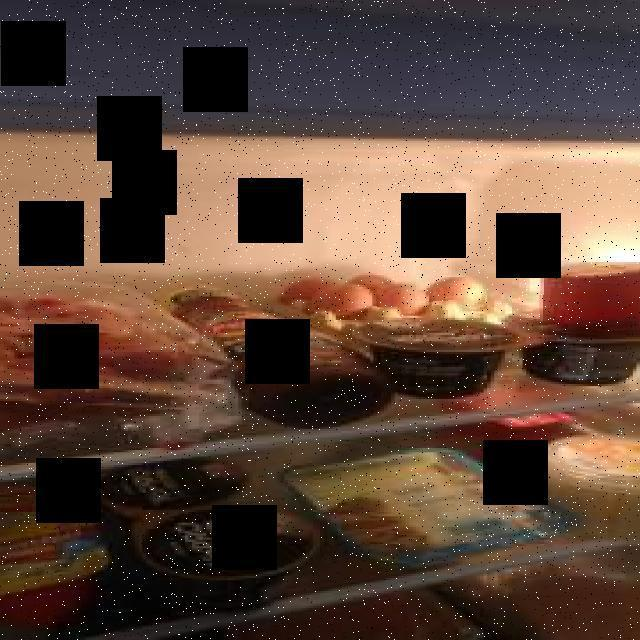egg: (308, 284, 378, 320), (374, 280, 431, 317), (427, 278, 487, 312)
yogurt: (0, 519, 117, 623), (526, 262, 640, 335)
